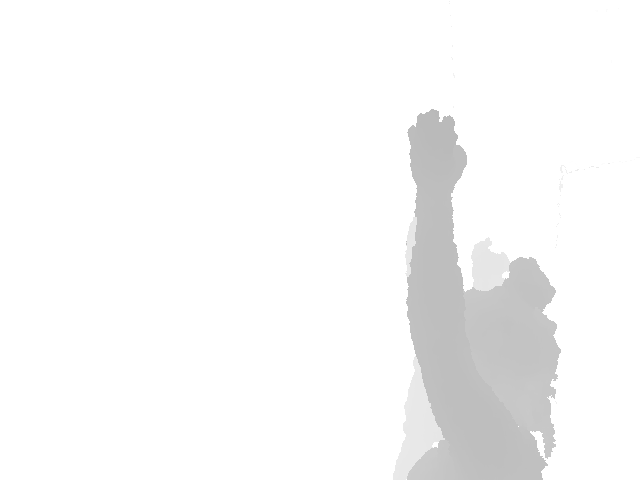hand: (407, 109, 467, 197)
head: (454, 287, 559, 440)
person: (405, 109, 560, 480)
